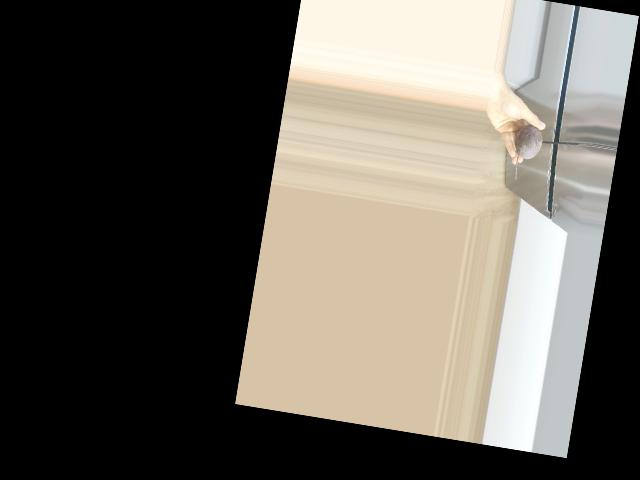beet: (509, 123, 544, 183)
